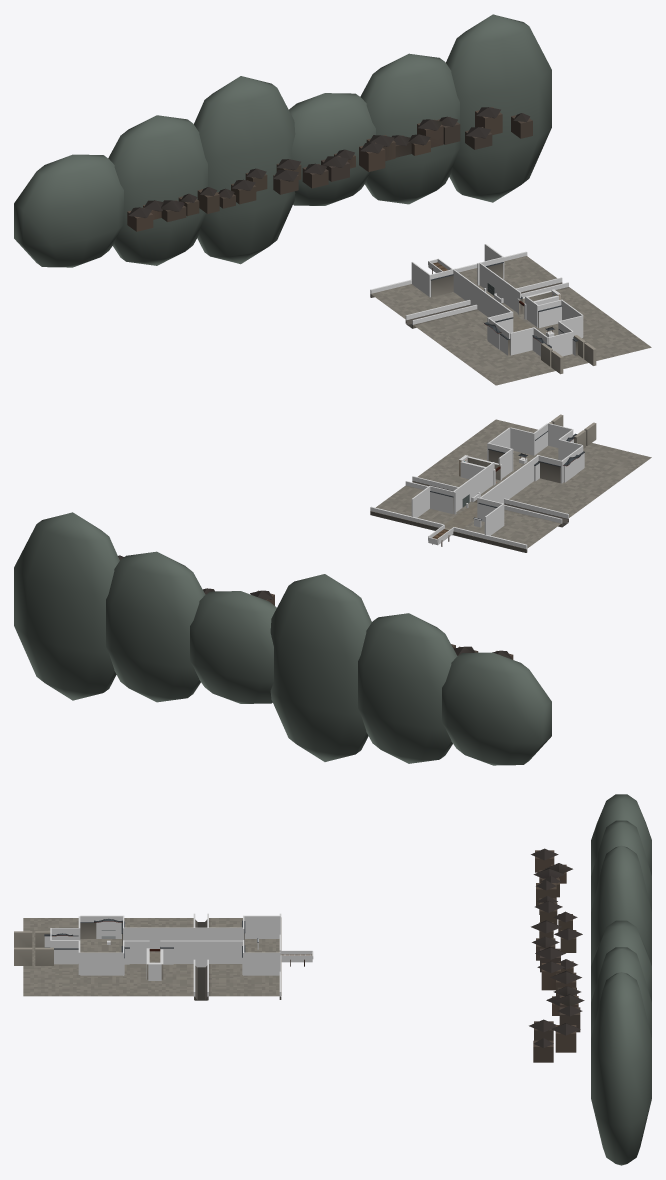
The model's file is quiet.glb.
The picture shows the model from 3 angles, top to bottom: view 1: azimuth 30°, elevation 25°; view 2: azimuth 150°, elevation 25°; view 3: azimuth 270°, elevation 25°; orthographic projection. The views are drawn at different scales.
Parts seen in each view (by area): view 1: quiet, GROUND_quiet, COL_quiet; view 2: quiet, GROUND_quiet, COL_quiet; view 3: quiet, COL_quiet, GROUND_quiet.
Boxes of the visible parts, x1,y1,x2,y2 form: quiet: (14,14,596,374); GROUND_quiet: (371,256,651,385); COL_quiet: (370,244,583,356); quiet: (14,414,596,765); GROUND_quiet: (376,419,651,548); COL_quiet: (370,423,584,549); quiet: (14,794,651,1165); COL_quiet: (44,913,313,996); GROUND_quiet: (23,918,279,999).
Size of the model in its own units: 176 by 60 by 179.
